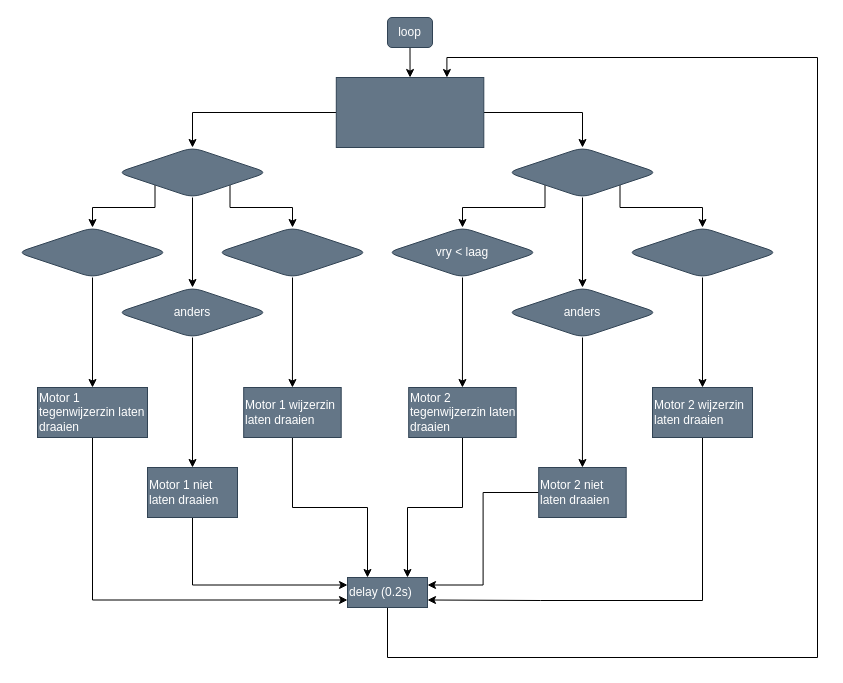
Image size: 843x683. Some labels were removed from this diagram. The shapes that lost their labels are listed below. From the top down, each one's centre as x and y in pixels, then its label:
[409,112]: -score aanpassen indien nodig -achternaam/voornaam aanpassen indien nodig
[192,172]: VRX
[582,172]: VRY
[92,252]: vrx < laag
[292,252]: vrx > hoog
[702,252]: vry > hoog
